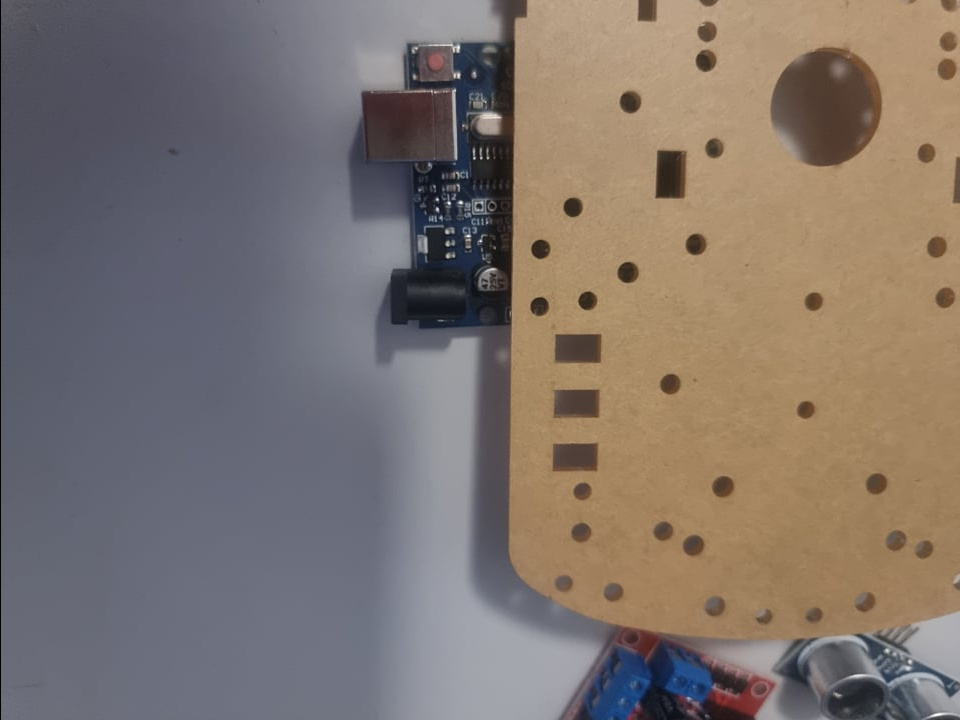UNO R3: (351, 35, 520, 349)
